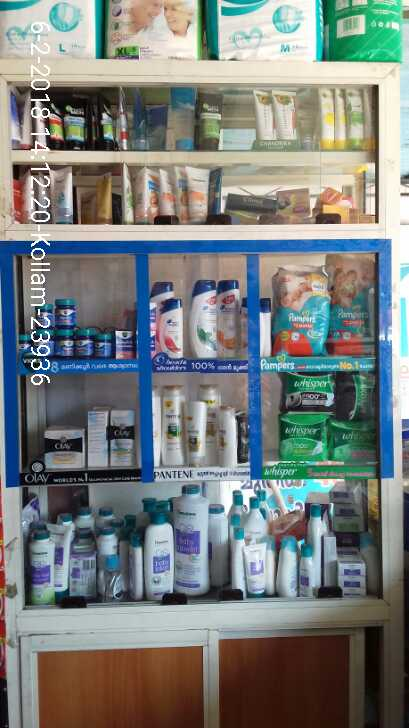vicks: (19, 297, 136, 363)
